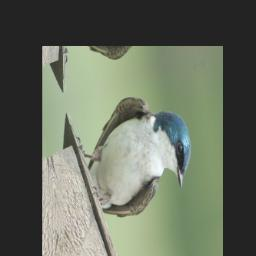Swallow: (72, 74, 199, 236)
